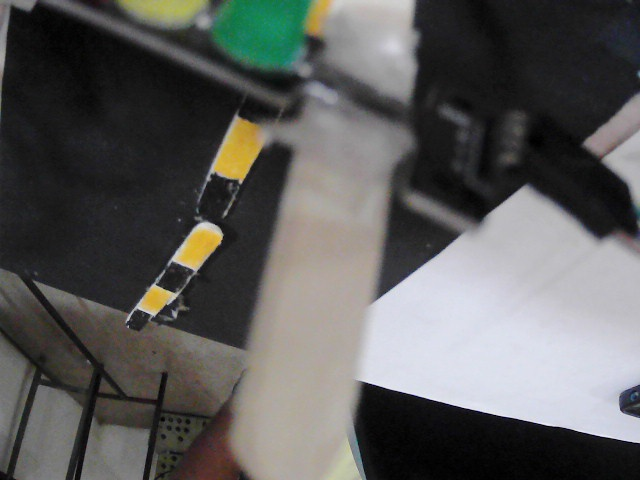black_strip: (196, 177, 238, 227), (155, 258, 192, 293), (124, 306, 146, 332)
mixed_lane: (131, 114, 266, 324)
traffic_light: (130, 0, 346, 93)
yellow_strip: (206, 114, 260, 183), (178, 225, 221, 266), (138, 284, 170, 312)
